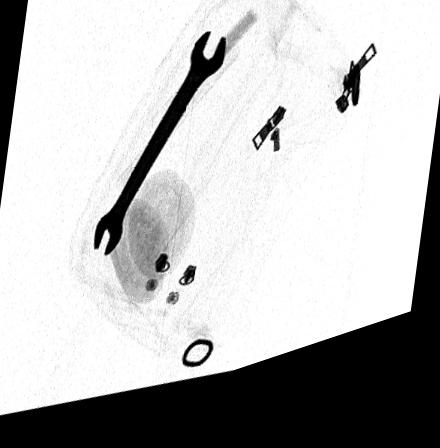Wrench: (92, 41, 228, 265)
